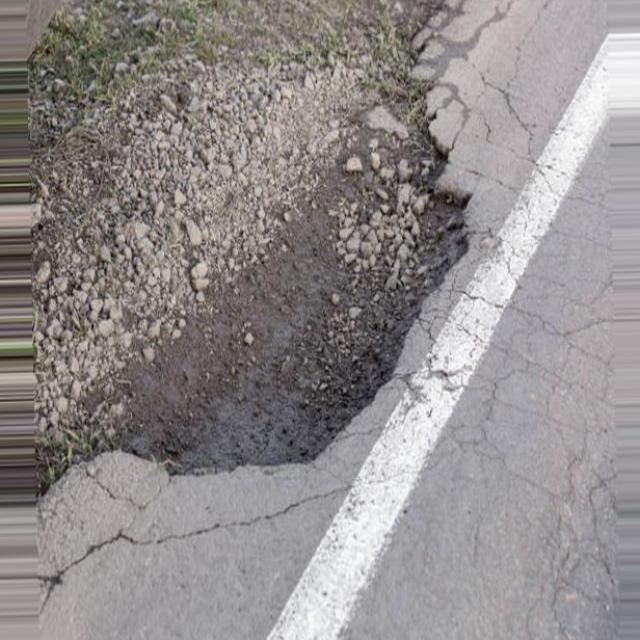Pinggir: (44, 30, 499, 502)
